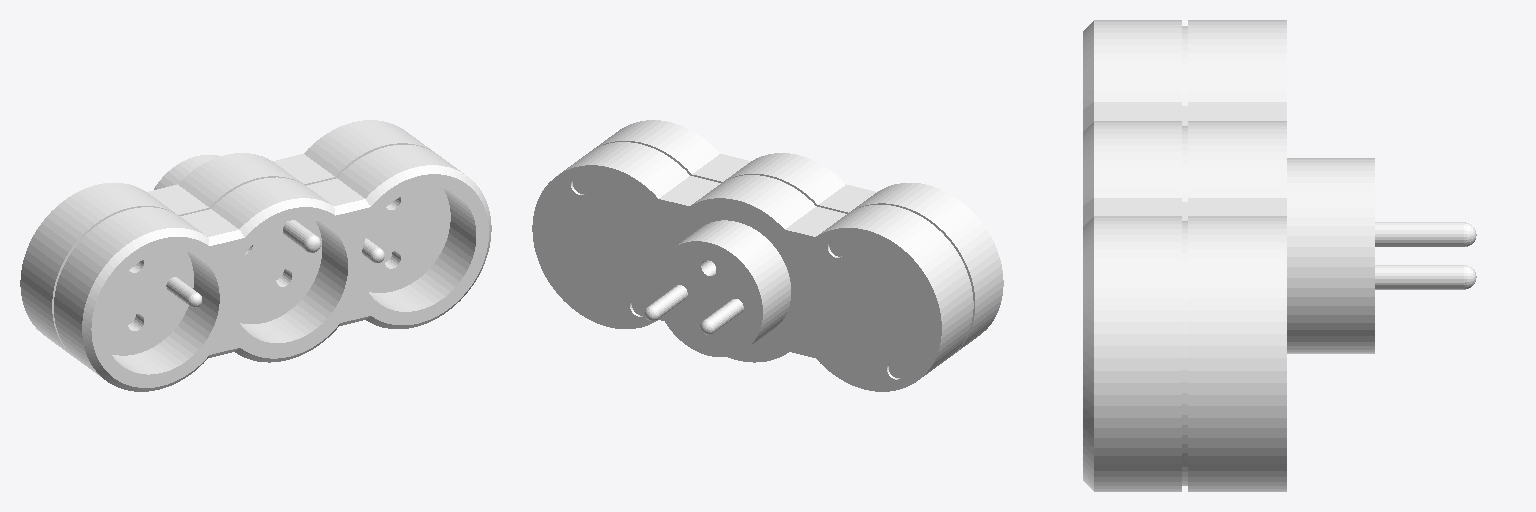
robot.urdf — obj_000023:
<?xml version="1.0" encoding="utf-8"?>
<!-- T-LESS object 23 (industrial multisocket plug).
     Mesh sourced from agimus_demo_05_pick_and_place.
     Collision approximated by a tight bounding box (100 x 40 x 40 mm). -->
<robot name="obj_000023">
  <link name="base_link">
    <visual>
      <geometry>
        <mesh filename="package://agimus_demo_07_tiago_pro_pick_and_drop/urdf/obj_23.obj"/>
      </geometry>
      <material name="tless_white">
        <color rgba="1.0 1.0 1.0 1.0"/>
      </material>
    </visual>
    <collision>
      <!-- Bounding box: 100 mm (x) × 40 mm (y) × 40 mm (z) -->
      <geometry>
        <box size="0.100 0.040 0.040"/>
      </geometry>
    </collision>
    <inertial>
      <origin rpy="0 0 0" xyz="0.0 0.0 0.0"/>
      <mass value="0.1"/>
      <inertia ixx="1e-4" ixy="0" ixz="0" iyy="1e-4" iyz="0" izz="1e-4"/>
    </inertial>
  </link>
</robot>

--- Facts derived from the render (not from the file) ---
3 views of the same robot in one strip: view 1: azimuth 30°, elevation 25°; view 2: azimuth 150°, elevation 25°; view 3: azimuth 270°, elevation 25° (orthographic).
Model obj_000023 with 1 links and 0 joints (none), rooted at base_link, posed every joint at zero.
Visible links, largest first — view 1: base_link; view 2: base_link; view 3: base_link.
Link boxes in pixels (x1=…): base_link: x1=20, y1=120, x2=491, y2=391; base_link: x1=532, y1=120, x2=1003, y2=391; base_link: x1=1083, y1=20, x2=1476, y2=491.
Size in the robot's own frame: 0.1379 by 0.0735 by 0.0521 metres.
1 mesh visuals loaded from 1 distinct referenced files (1 OBJ).
